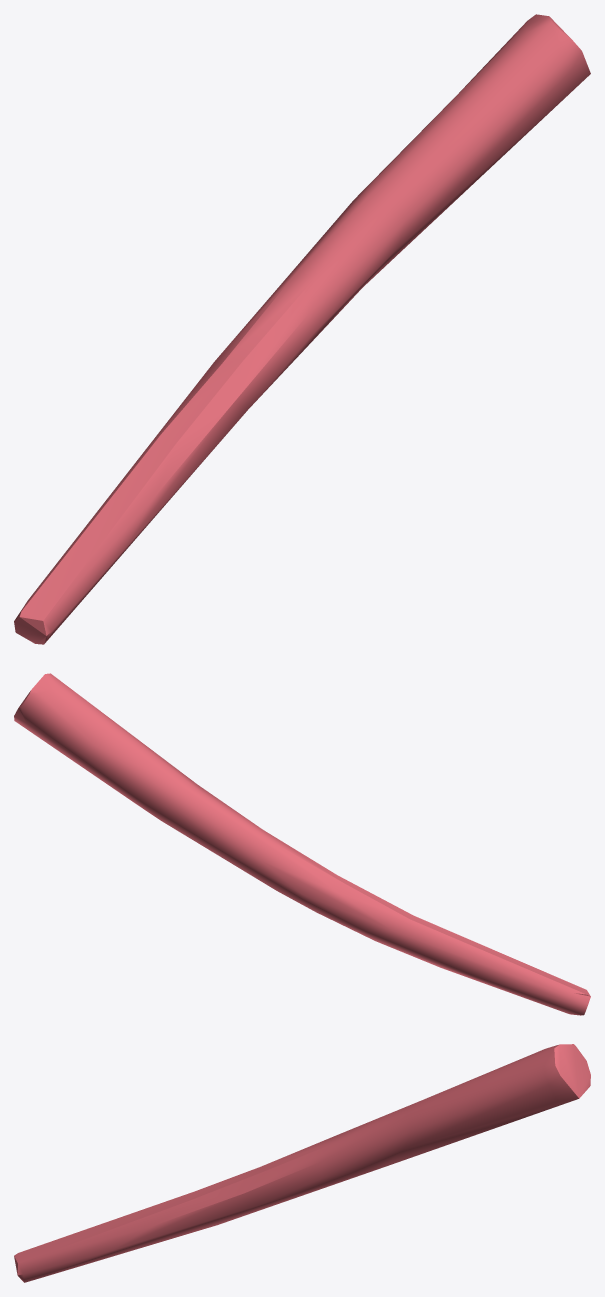
File: fma8630_fj6072.glb
3 views of the same model, one above another, from view 1: azimuth 30°, elevation 25°; view 2: azimuth 150°, elevation 25°; view 3: azimuth 330°, elevation 25° (orthographic). The views are drawn at different scales.
Visible parts, largest first — view 1: FMA8630_FJ6072; view 2: FMA8630_FJ6072; view 3: FMA8630_FJ6072.
Part boxes in pixels (left/top/right/bottom): FMA8630_FJ6072: left=14, top=14, right=590, bottom=644; FMA8630_FJ6072: left=14, top=673, right=590, bottom=1015; FMA8630_FJ6072: left=14, top=1044, right=590, bottom=1282.
Bounding box in the file's own units: 0.0371 × 0.0208 × 0.0136.
